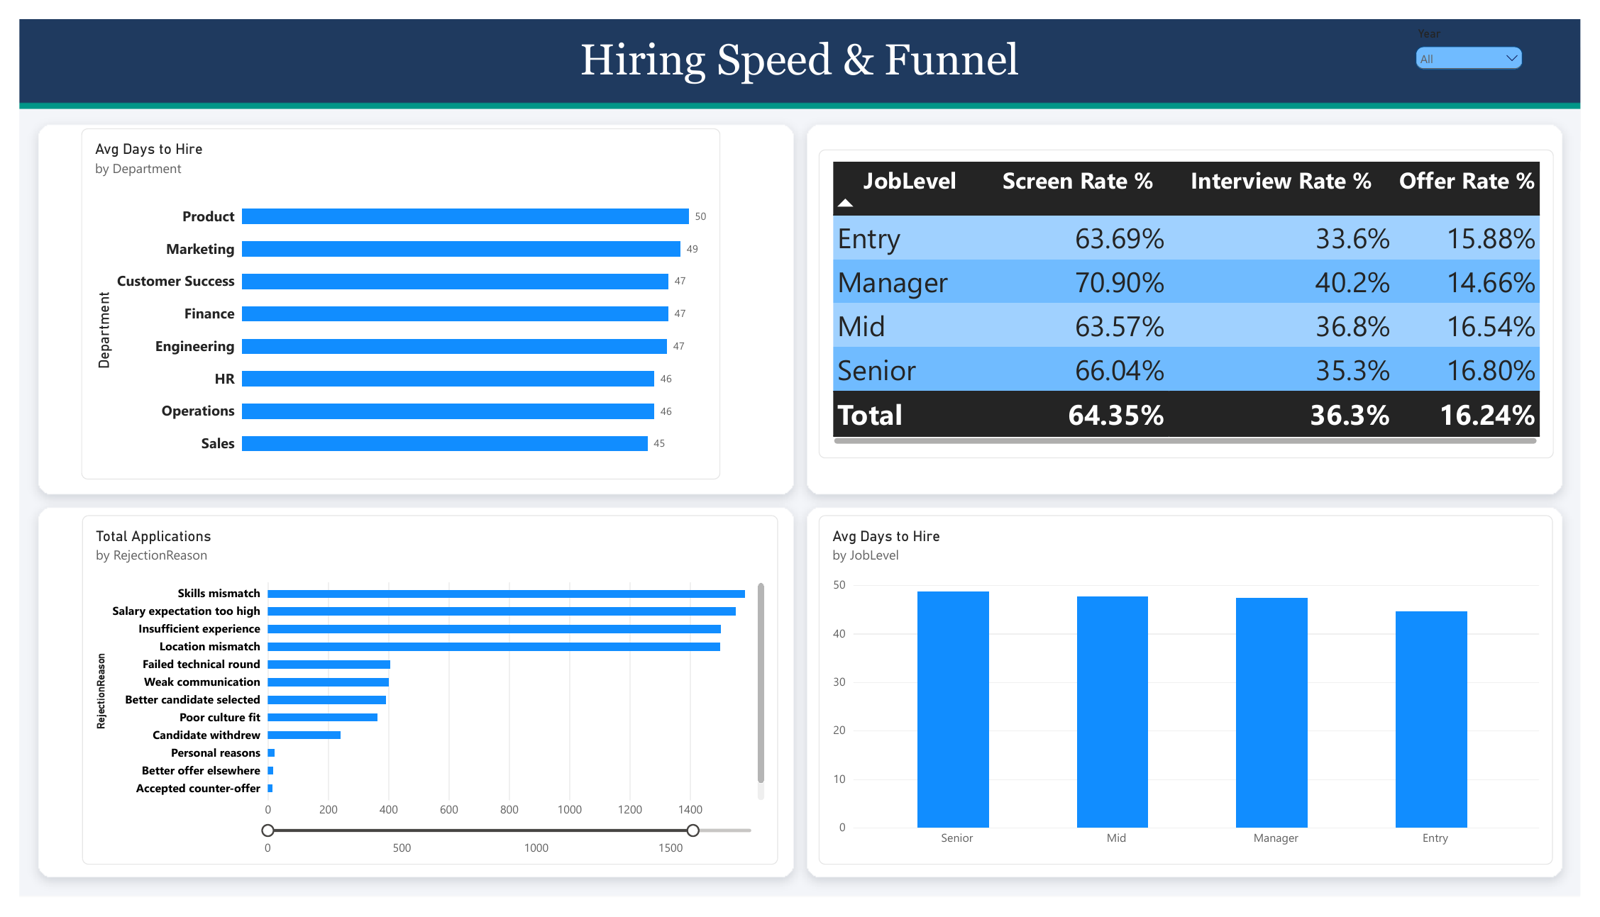

This screenshot's page, from the dashboard's own definition file:
{"tool":"powerbi","page":{"name":"Hiring Speed","canvas":[1920,1080],"ordinal":2},"visuals":[{"type":"textbox","box":[0,0,1920,100],"z":0},{"type":"barChart","fields":{"Category":["Jobs.Department"],"Y":["_Measures.Avg Days to Hire"]},"box":[76,134,786,432],"z":1000},{"type":"tableEx","fields":{"Values":["Jobs.JobLevel","_Measures.Screen Rate %","_Measures.Interview Rate %","_Measures.Offer Rate %"]},"box":[983.3,160,903.3,380],"z":2000},{"type":"barChart","fields":{"Category":["Applications.RejectionReason"],"Y":["_Measures.Total Applications"]},"box":[76.7,610,856.7,430],"z":3000},{"type":"columnChart","fields":{"Category":["Jobs.JobLevel"],"Y":["_Measures.Avg Days to Hire"]},"box":[983,610,903,430],"z":4000},{"type":"slicer","fields":{"Values":["DimDate.Year"]},"box":[1712,10,142,96],"z":5000}]}

Visuals, with their boxes in screenshot pixels (x1, y1, x2, y2), scaled from the page's 1920x1080 canvas onto the 1600x917 screenshot:
textbox: 0:0:1599:85
barChart - Jobs.Department x _Measures.Avg Days to Hire: 63:114:718:481
tableEx - Jobs.JobLevel x _Measures.Screen Rate %: 819:136:1572:458
barChart - Applications.RejectionReason x _Measures.Total Applications: 64:518:778:883
columnChart - Jobs.JobLevel x _Measures.Avg Days to Hire: 819:518:1572:883
slicer - DimDate.Year: 1427:8:1545:90
